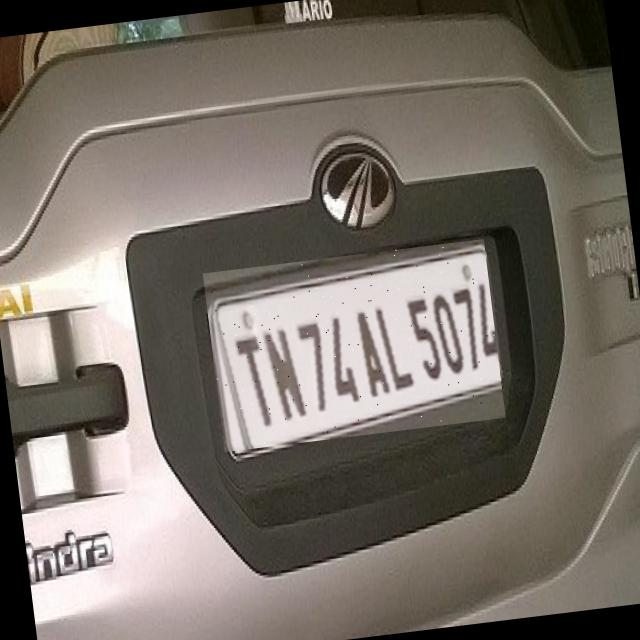Plate: (204, 240, 507, 453)
